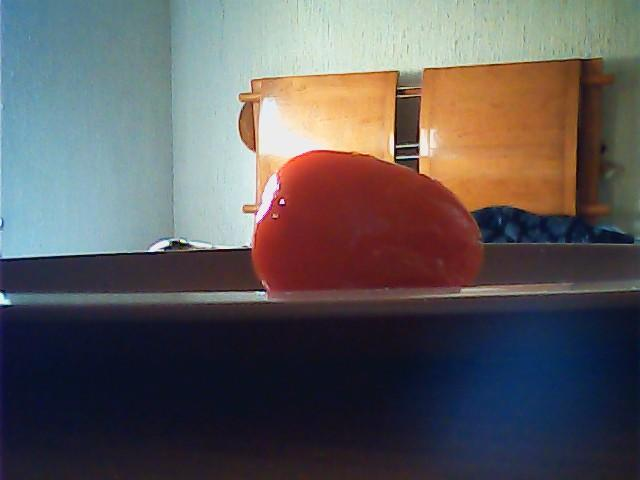maduro: (248, 150, 481, 295)
